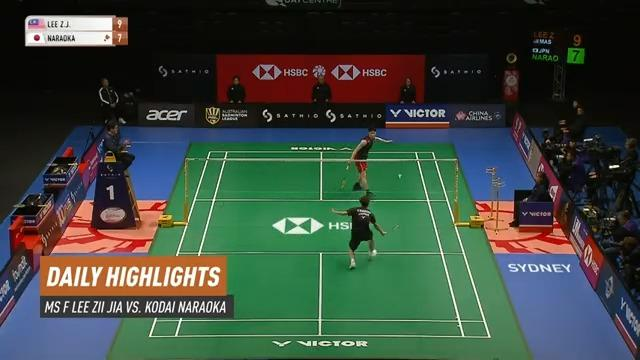Shuttlecock: (396, 171, 406, 181)
